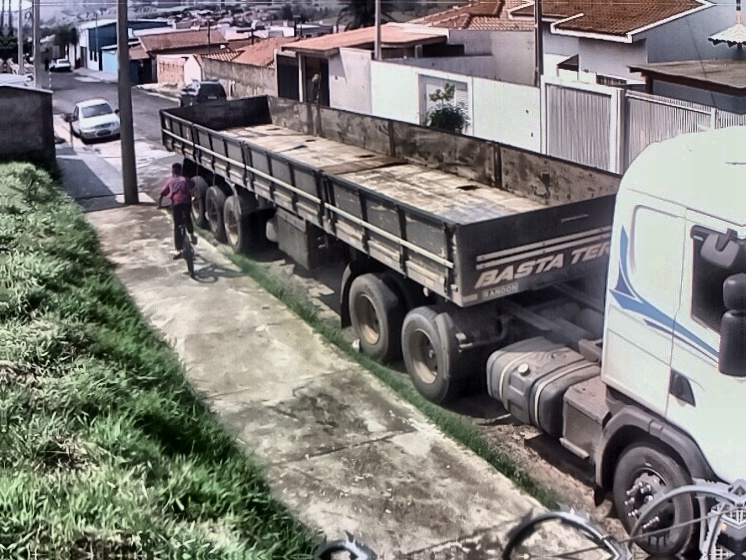person: (153, 163, 199, 265)
